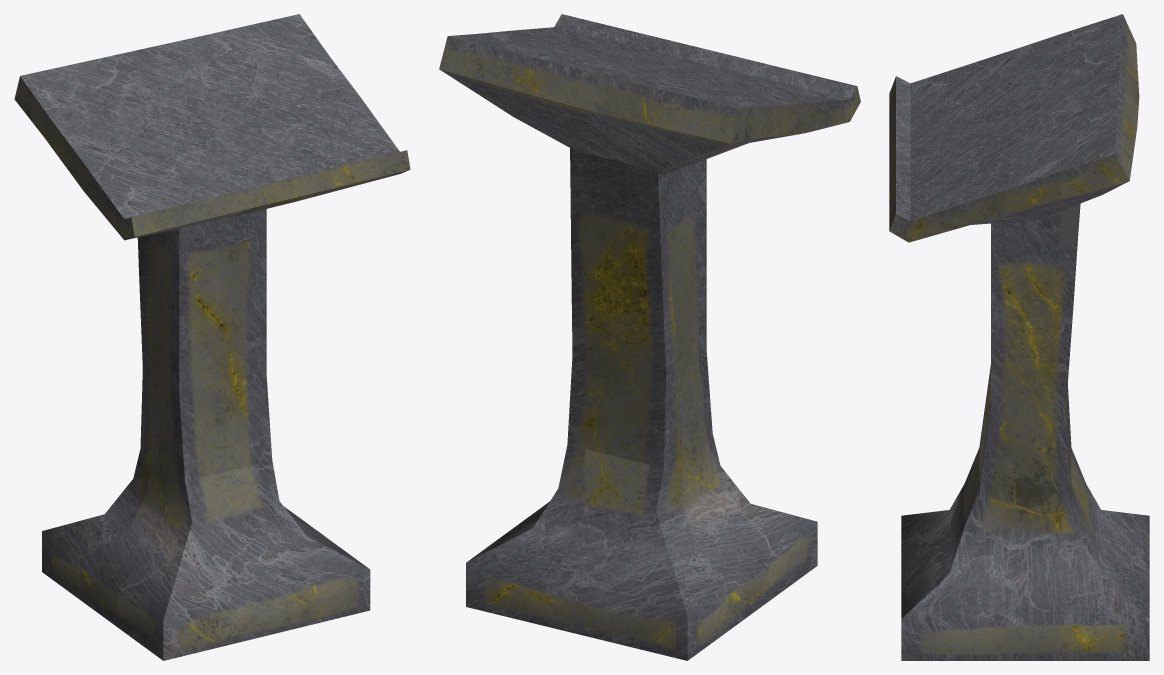
Rendered from LecternModel2.fbx.
3 views of the same model, side by side, from view 1: azimuth 30°, elevation 25°; view 2: azimuth 150°, elevation 25°; view 3: azimuth 270°, elevation 25° (orthographic). The views are drawn at different scales.
Parts seen in each view (by area): view 1: pCube8; view 2: pCube8; view 3: pCube8.
Boxes of the visible parts, x1,y1,x2,y2 form: pCube8: (14, 14, 410, 660); pCube8: (439, 14, 860, 660); pCube8: (889, 14, 1149, 660).
Bounding box in the file's own units: 6.48 × 11.51 × 5.16.
Materials: 1 (1 with a texture image).
